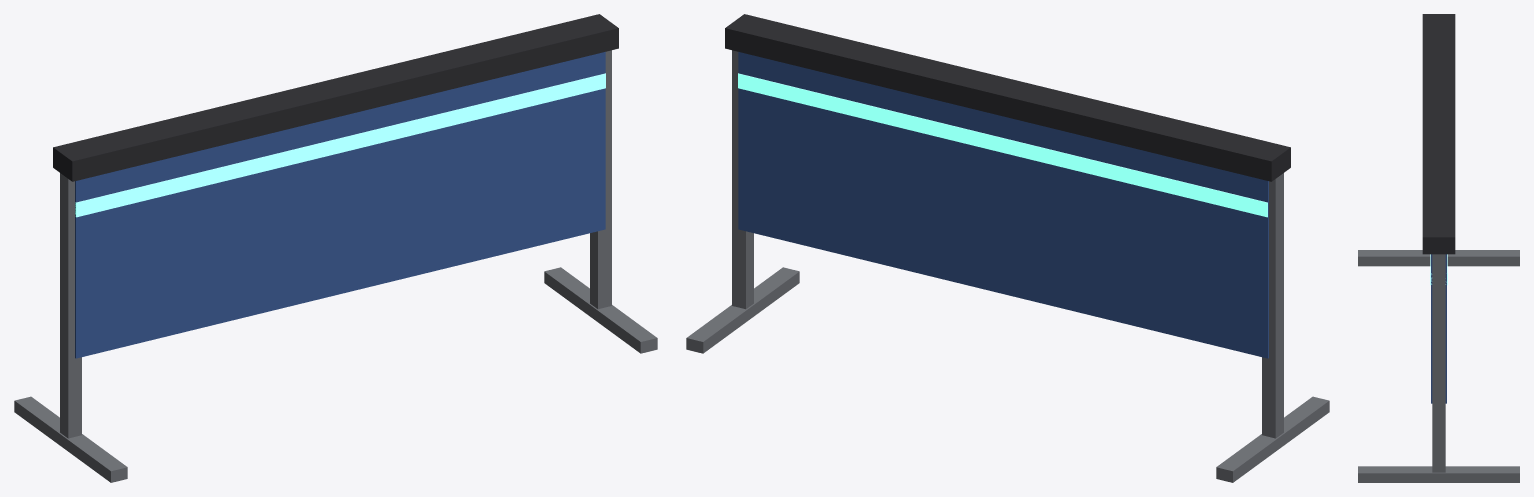
File: Barrier.glb
3 renders of one model, left to right at view 1: azimuth 30°, elevation 25°; view 2: azimuth 150°, elevation 25°; view 3: azimuth 270°, elevation 25°, orthographic. The views are drawn at different scales.
Parts seen in each view (by area): view 1: Panel, Cap, PanelStripe, Post-0.95, Post0.95, Foot0.95, Foot-0.95; view 2: Panel, Cap, PanelStripe, Post-0.95, Post0.95, Foot0.95, Foot-0.95; view 3: Cap, Post0.95, Foot0.95, Foot-0.95, Panel.
Part boxes in pixels (bbox=[...]): Panel: bbox=[75, 52, 605, 358]; Cap: bbox=[53, 14, 618, 181]; PanelStripe: bbox=[75, 73, 605, 217]; Post-0.95: bbox=[60, 173, 81, 438]; Post0.95: bbox=[590, 50, 611, 309]; Foot0.95: bbox=[544, 267, 657, 353]; Foot-0.95: bbox=[14, 396, 127, 482]; Panel: bbox=[738, 52, 1268, 358]; Cap: bbox=[725, 14, 1290, 181]; PanelStripe: bbox=[738, 73, 1267, 217]; Post-0.95: bbox=[1262, 173, 1283, 438]; Post0.95: bbox=[732, 50, 753, 309]; Foot0.95: bbox=[686, 267, 799, 353]; Foot-0.95: bbox=[1216, 396, 1329, 482]; Cap: bbox=[1422, 14, 1455, 254]; Post0.95: bbox=[1432, 254, 1445, 472]; Foot0.95: bbox=[1358, 466, 1519, 482]; Foot-0.95: bbox=[1358, 250, 1519, 266]; Panel: bbox=[1431, 254, 1446, 403].
Bounding box in the file's own units: 1.96 × 1.01 × 0.6.
